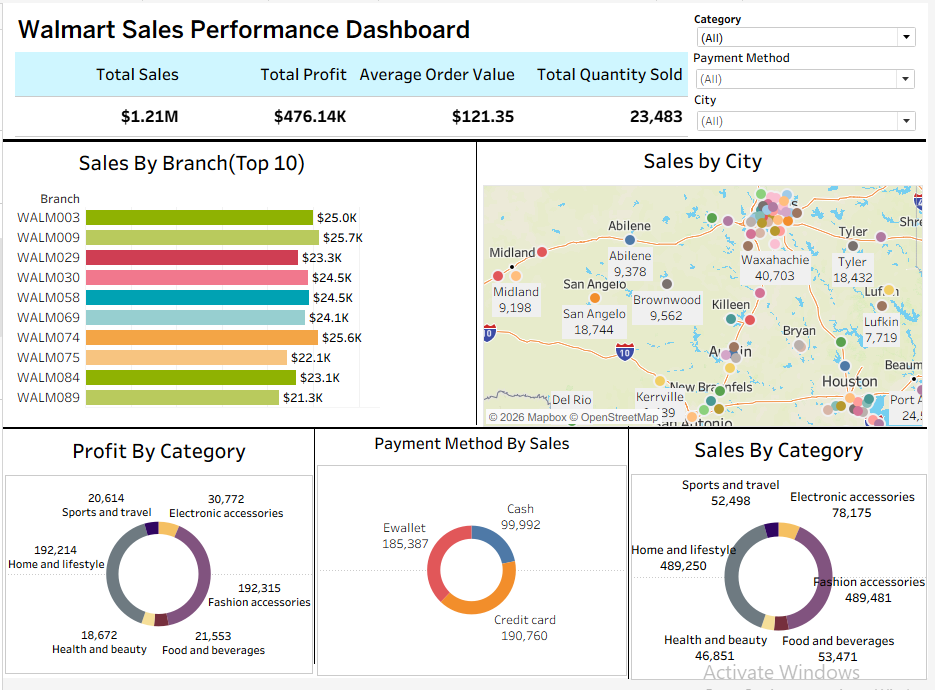

The dashboard page shown, as its layout file describes it:
{"tool":"tableau","page":{"name":"Dashboard 1","canvas":[925,675],"ordinal":0},"visuals":[{"type":"title","box":[8,8,909,37]},{"type":"filter","title":"Profit By Category ","param":"[federated.1pdsi9u01daglp14v7wtq1x4s3r4].[none:category:nk]","box":[691,8,225,37]},{"type":"worksheet","title":"KPI's","mark":"Automatic","box":[8,45,909,622]},{"type":"filter","title":"Payment Method By Sales","param":"[federated.1pdsi9u01daglp14v7wtq1x4s3r4].[none:payment_method:nk]","box":[690,46,225,42]},{"type":"filter","title":"Sales by City","param":"[federated.1pdsi9u01daglp14v7wtq1x4s3r4].[none:City:nk]","box":[691,88,225,42]},{"type":"blank","box":[0,136,923,3]},{"type":"blank","box":[473,136,1,286]},{"type":"worksheet","title":"Sales by City","mark":"Automatic","box":[480,139,440,285]},{"type":"worksheet","title":"Sales By Branch","mark":"Automatic","rows":["Branch"],"cols":["Calculation_0726827195625472"],"box":[2,141,469,274]},{"type":"blank","box":[624.9,423,1,253]},{"type":"blank","box":[311.4,425,1,236]},{"type":"worksheet","title":"Payment Method By Sales","mark":"Pie","rows":["Calculation_0726827201302532","Calculation_0726827201302532"],"box":[314,425,310,248]},{"type":"worksheet","title":"Sale By Category","mark":"Pie","rows":["Calculation_0726827201302532","Calculation_0726827201302532"],"box":[628,428,296,249]},{"type":"worksheet","title":"Profit By Category ","mark":"Pie","rows":["Calculation_0726827201302532","Calculation_0726827201302532"],"box":[2.1,429,308.3,242]}]}

Visuals, with their boxes in screenshot pixels (x1, y1, x2, y2), scaled from the page's 925x675 canvas onto the 935x690 screenshot:
title: bbox=(8, 8, 927, 46)
"Profit By Category " filter: bbox=(698, 8, 926, 46)
"KPI's" worksheet: bbox=(8, 46, 927, 682)
"Payment Method By Sales" filter: bbox=(697, 47, 925, 90)
"Sales by City" filter: bbox=(698, 90, 926, 133)
blank: bbox=(0, 139, 933, 142)
blank: bbox=(478, 139, 479, 431)
"Sales by City" worksheet: bbox=(485, 142, 930, 433)
"Sales By Branch" worksheet: bbox=(2, 144, 476, 424)
blank: bbox=(632, 432, 633, 689)
blank: bbox=(315, 434, 316, 676)
"Payment Method By Sales" worksheet (Pie marks): bbox=(317, 434, 631, 688)
"Sale By Category" worksheet (Pie marks): bbox=(635, 438, 934, 689)
"Profit By Category " worksheet (Pie marks): bbox=(2, 439, 314, 686)
